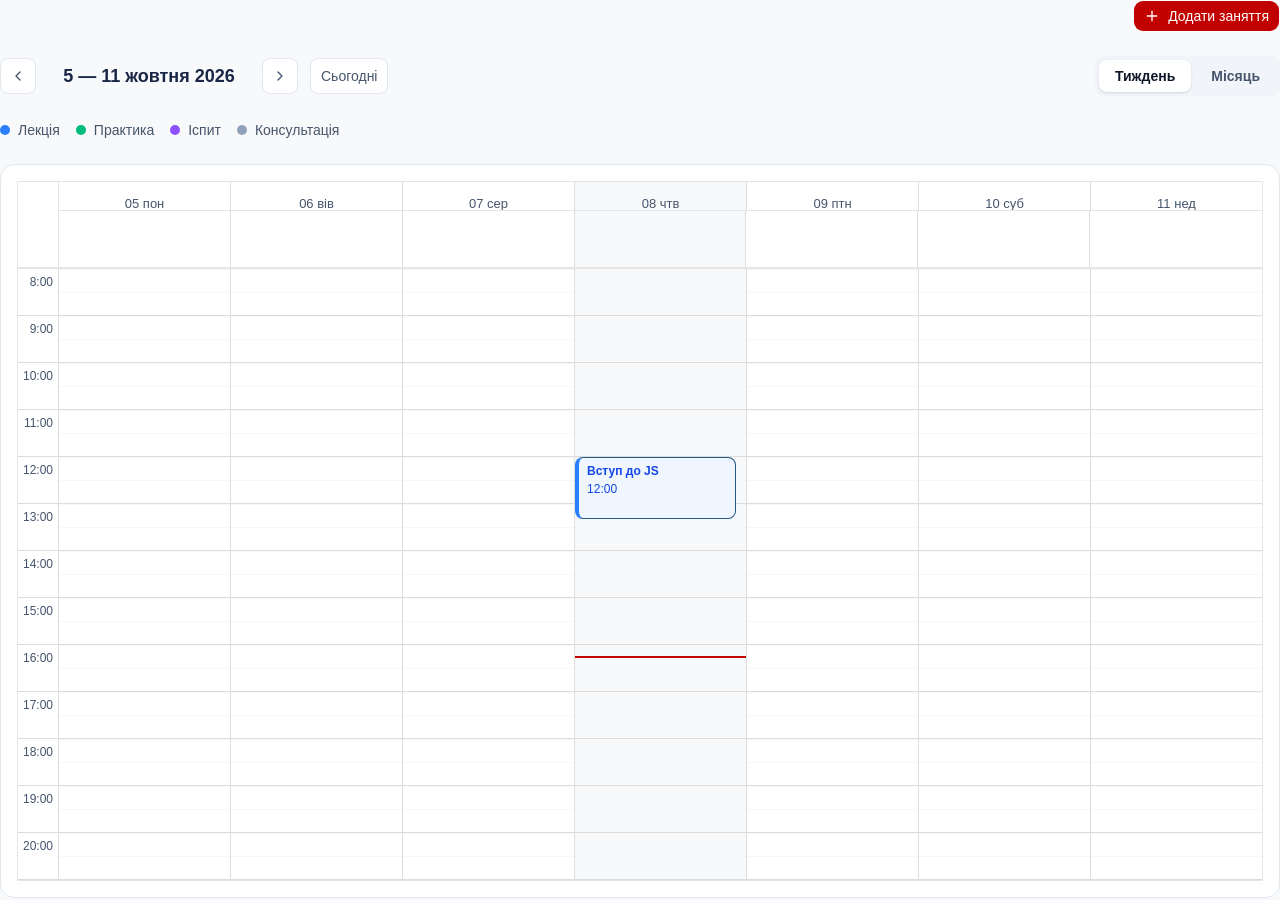
Test: SchedulePage — редагування заняття › з деталей відкриває форму з даними заняття і шле лише змінені поля
Step 1. Click the text "Вступ до JS" → (623, 471), box [587,464,659,479]
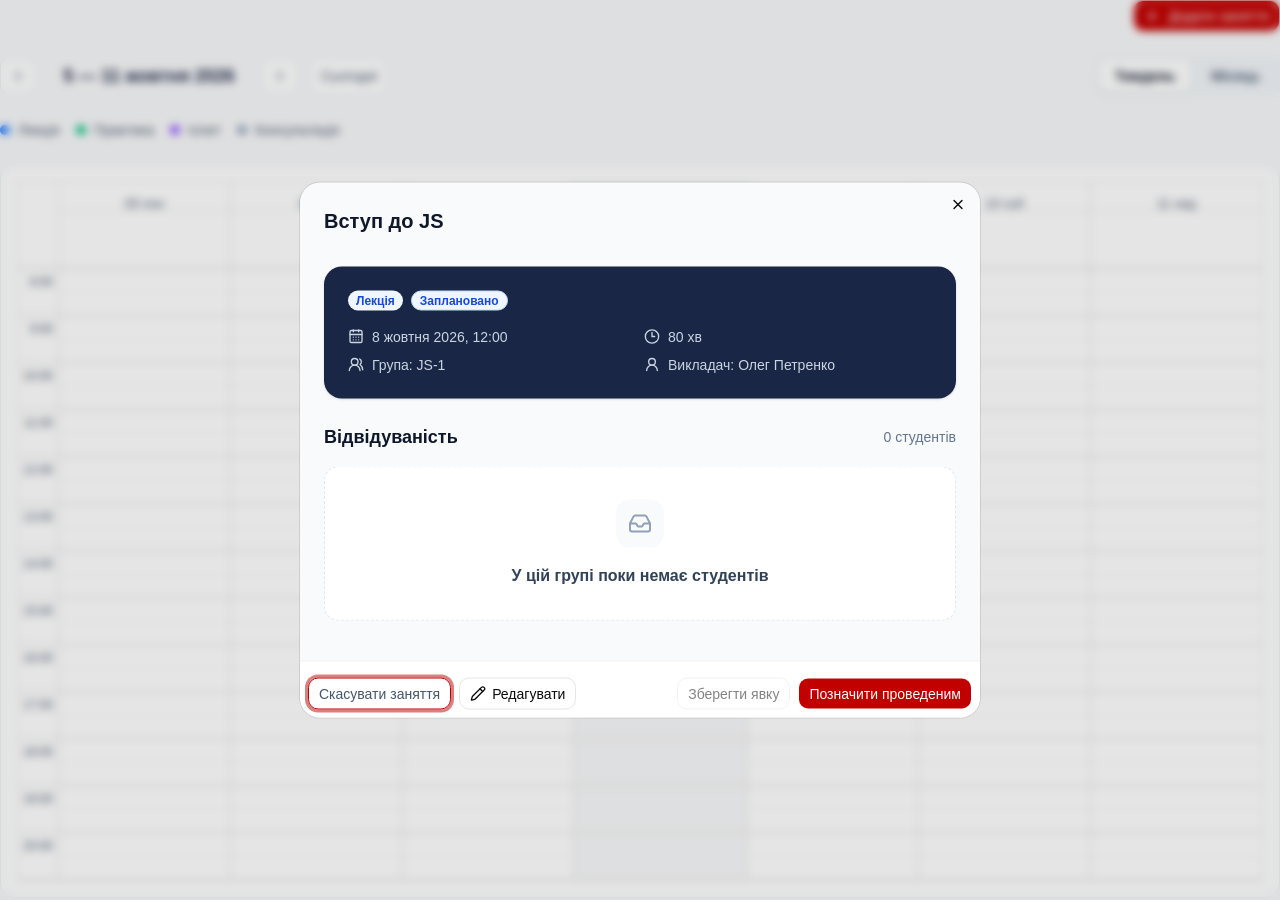
Step 2. Click the button "Редагувати" → (518, 694), box [459,678,576,710]
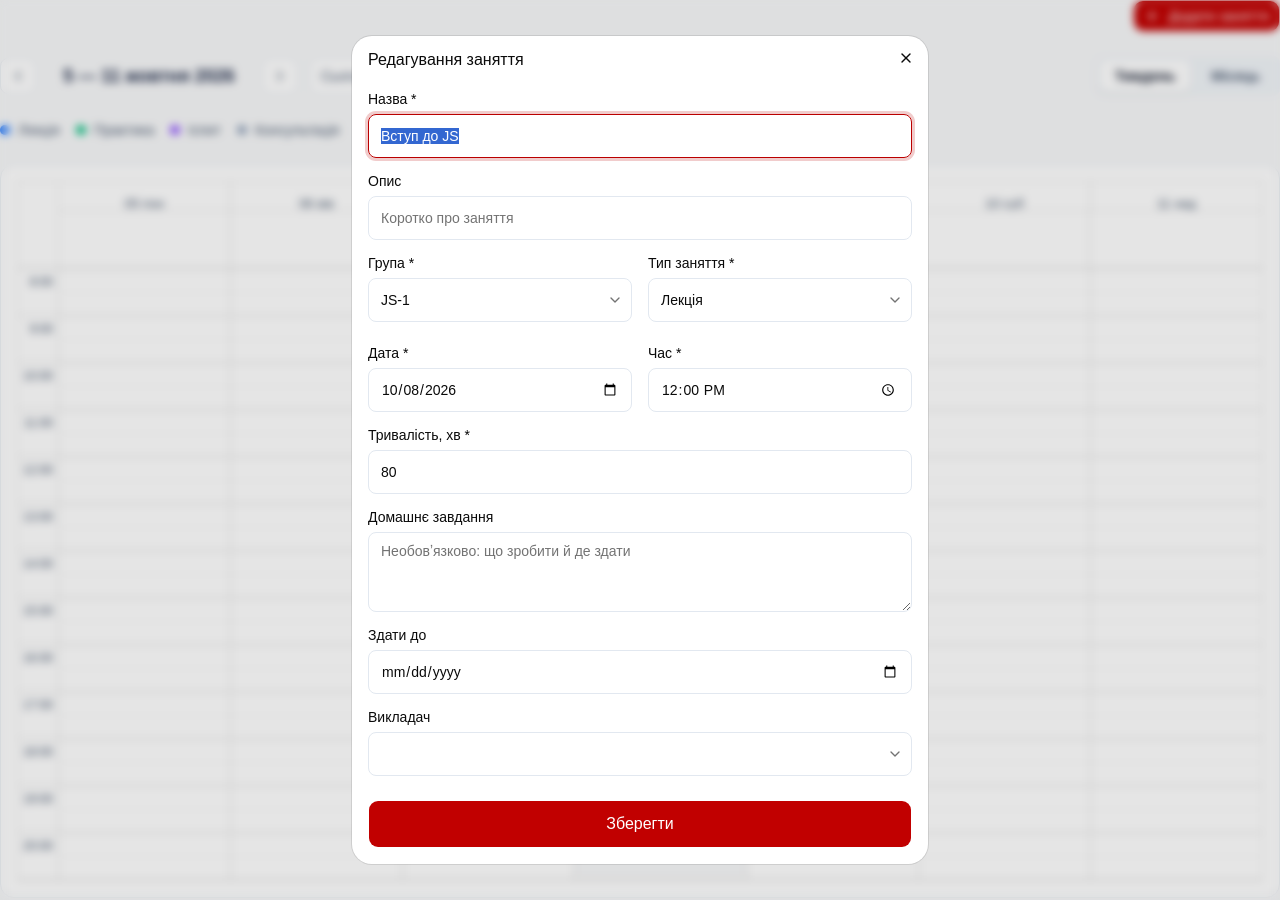
Check: the field labelled "Назва *" holds "Вступ до JS"
Check: the time field labelled "Час *" holds "12:00", box [648,368,912,412]
Step 3. Replace the text in the field labelled "Назва *" with "Основи JS" → (640, 136), box [368,114,912,158]
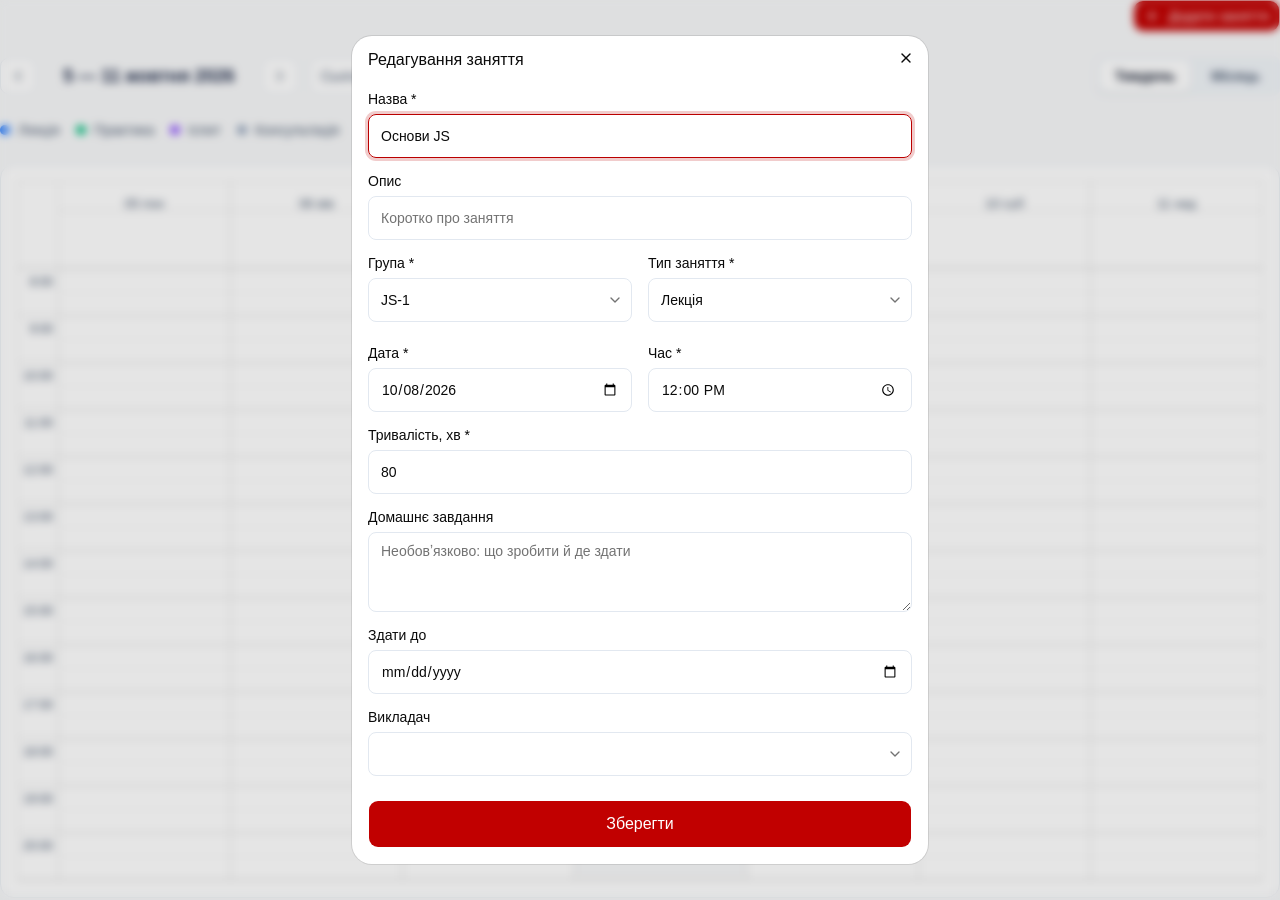
Step 4. Click the button "Зберегти" → (640, 824), box [368,800,912,848]
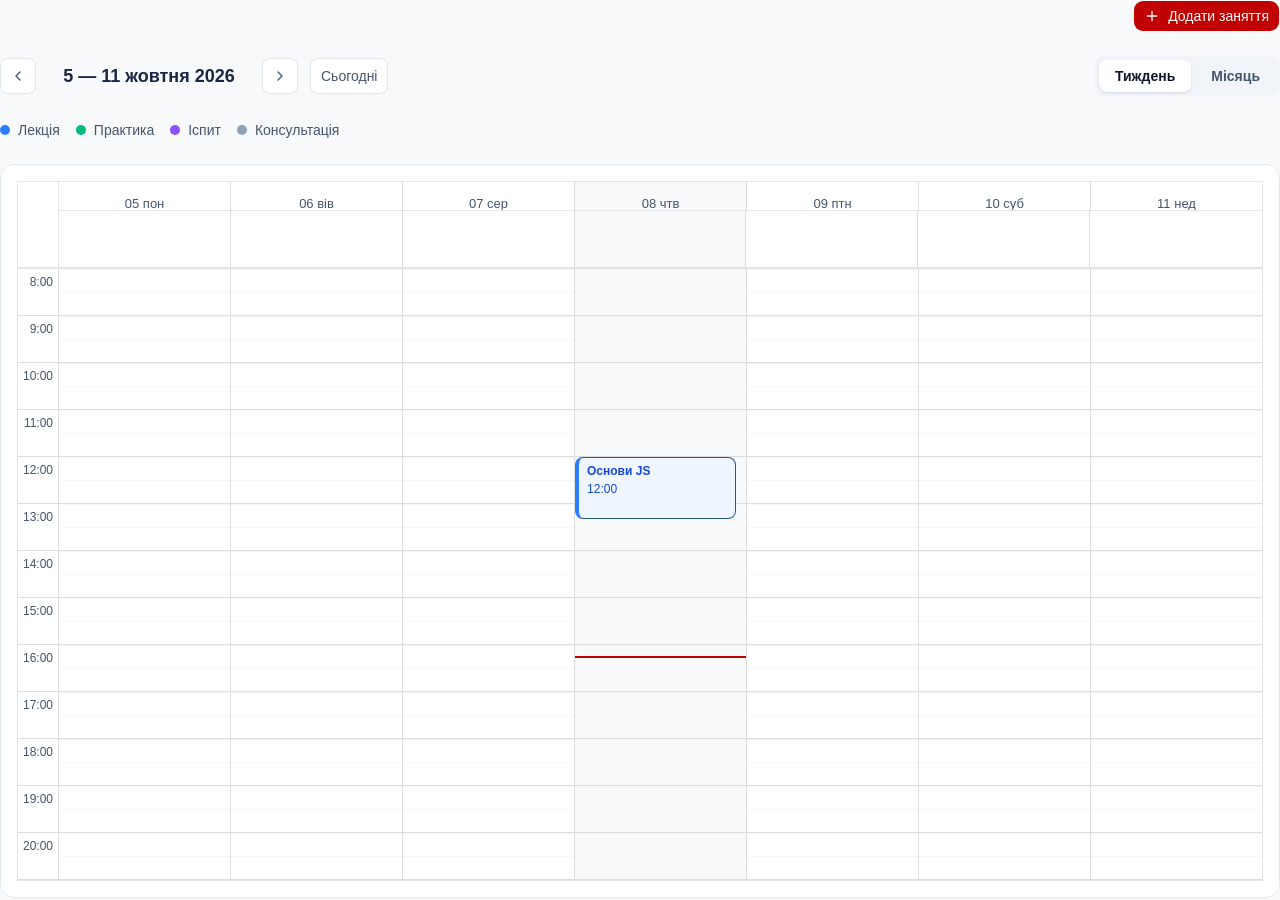
Check: the text "Основи JS" is shown, box [587,464,650,479]
